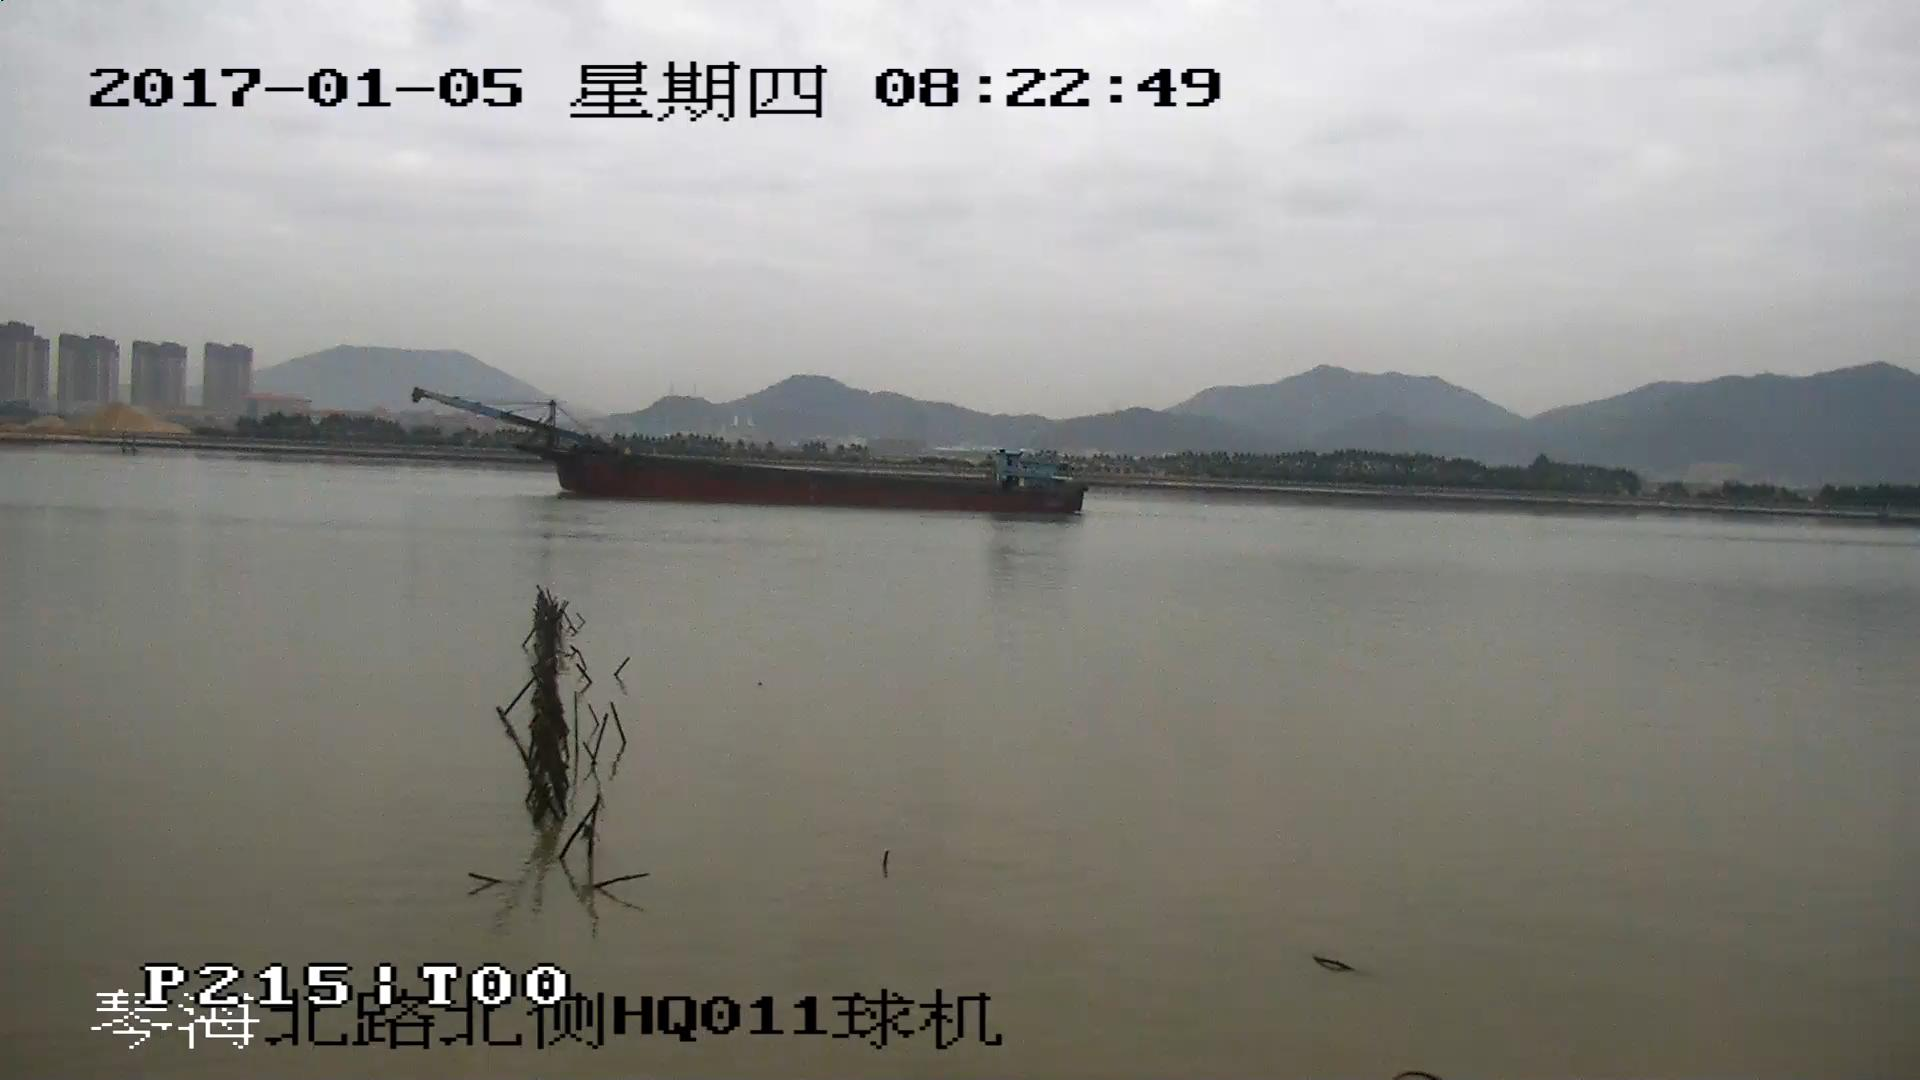bulk cargo carrier: (418, 388, 1087, 514)
